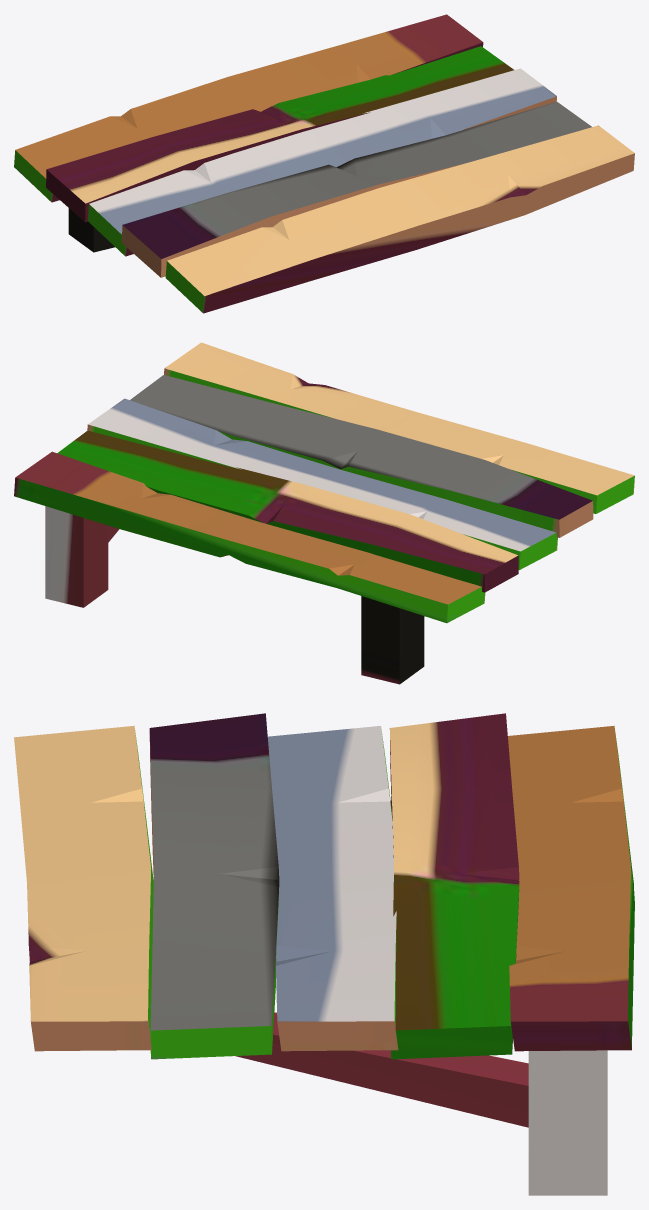
File: SM_WoodPlatform_LOD0.fbx
The picture shows the model from 3 angles, top to bottom: view 1: azimuth 30°, elevation 25°; view 2: azimuth 150°, elevation 25°; view 3: azimuth 270°, elevation 25°; orthographic projection. The views are drawn at different scales.
Visible parts, largest first — view 1: SM_WoodFlor_LOD0; view 2: SM_WoodFlor_LOD0; view 3: SM_WoodFlor_LOD0.
Part boxes in pixels (box(x1,y1,x2,y2)): SM_WoodFlor_LOD0: box(14, 14, 634, 313); SM_WoodFlor_LOD0: box(14, 342, 634, 684); SM_WoodFlor_LOD0: box(14, 713, 634, 1195).
Bounding box in the file's own units: 6.72 × 1.78 × 5.2.
